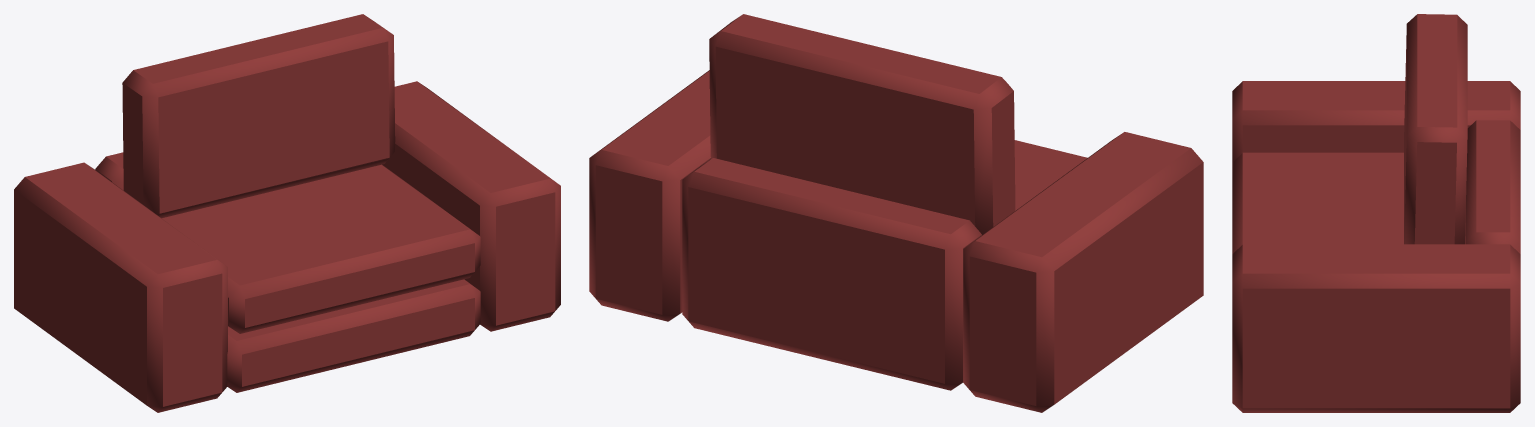
Rendered from furn-couch-2seater.glb.
The picture shows the model from 3 angles, left to right: view 1: azimuth 30°, elevation 25°; view 2: azimuth 150°, elevation 25°; view 3: azimuth 270°, elevation 25°; orthographic projection. The views are drawn at different scales.
Visible parts, largest first — view 1: Sofa_Small; view 2: Sofa_Small; view 3: Sofa_Small.
Part boxes in pixels (x1,y1,x2,y2): Sofa_Small: (14,14,560,412); Sofa_Small: (589,14,1203,412); Sofa_Small: (1232,14,1520,412).
Bounding box in the file's own units: 1.5 × 0.85 × 0.9.
